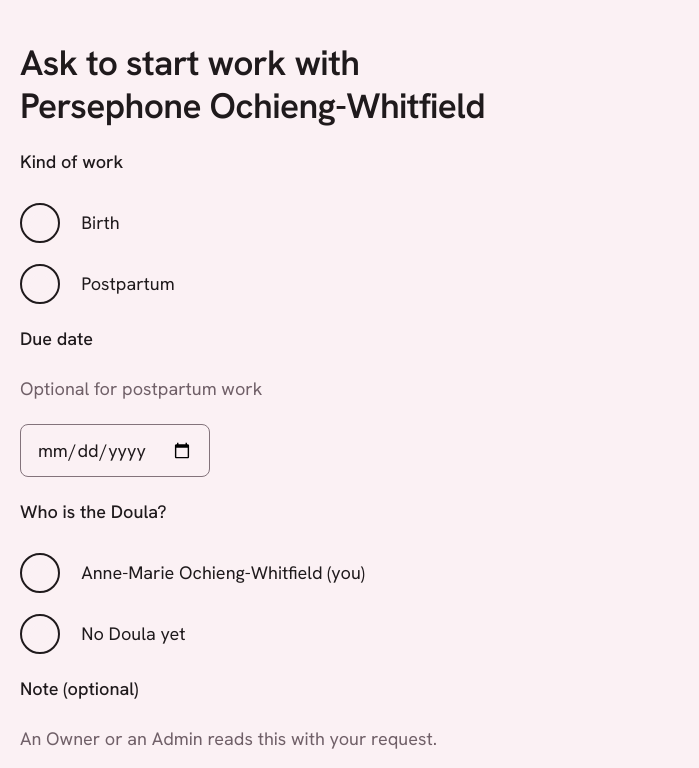
the Engagement Request screen › demands a due date on birth work
Expected: the heading "Ask to start work with Persephone Ochieng-Whitfield" is shown, [20,40,485,129]
Step 1. Click the radio button labelled "Birth" → x=40, y=223, box [20,203,60,243]
(page scrolled)
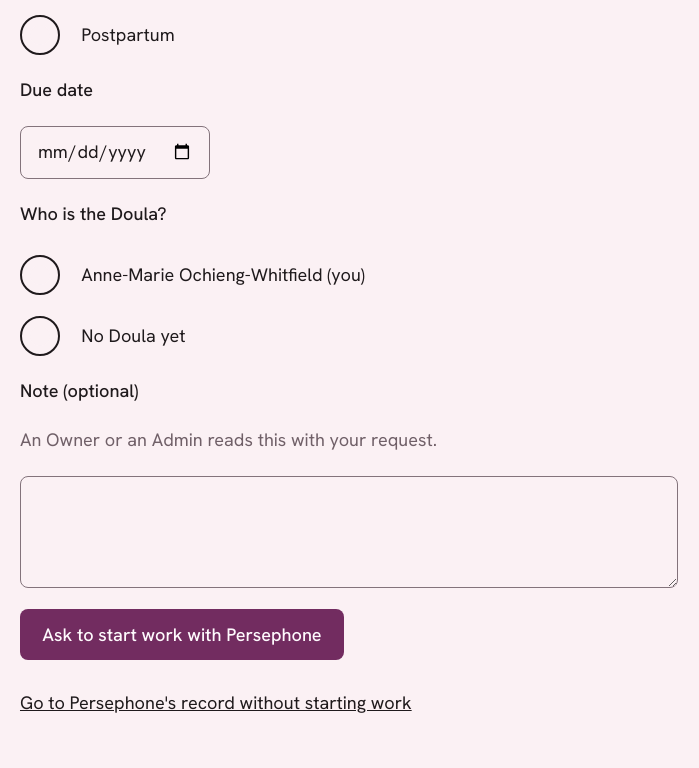
Step 2. Click the button "Ask to start work with Persephone" → x=182, y=635, box [20,609,344,660]
(page scrolled)
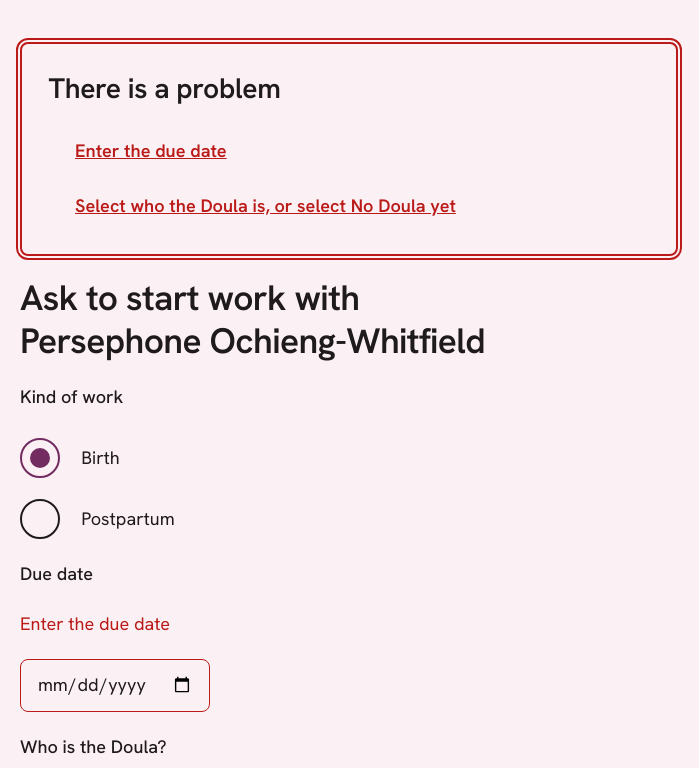
Now the link "Enter the due date" is shown, box [75,139,227,162]
